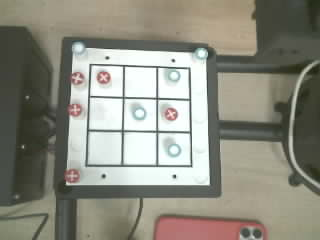blue circle: (167, 144, 182, 157), (72, 42, 85, 54), (133, 107, 146, 119), (167, 70, 180, 81), (194, 48, 207, 59)
board: (65, 42, 210, 185)
cells: (89, 98, 123, 130), (88, 132, 121, 164), (158, 133, 190, 165), (124, 133, 156, 164), (124, 99, 156, 130), (90, 66, 122, 96), (158, 100, 189, 130), (158, 68, 189, 98), (125, 67, 156, 96)
grid: (85, 64, 192, 166)
red cross: (164, 107, 178, 121), (64, 169, 79, 182), (68, 104, 82, 117), (97, 71, 110, 84), (71, 72, 84, 84)
